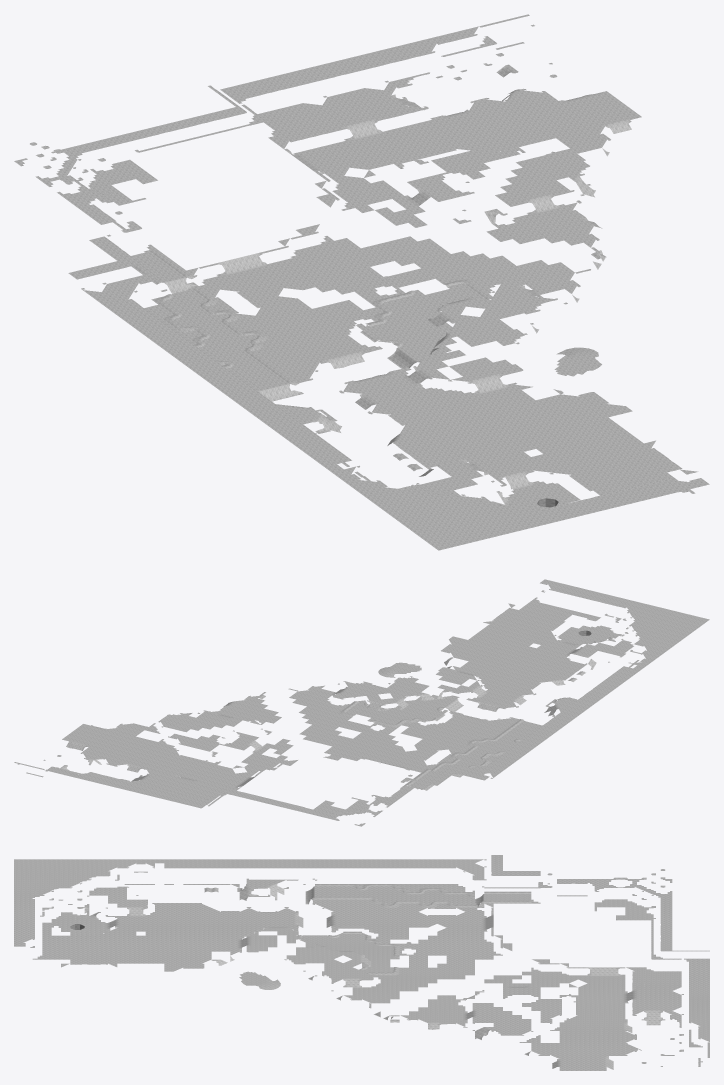
3 renders of one model, top to bottom at view 1: azimuth 30°, elevation 25°; view 2: azimuth 150°, elevation 25°; view 3: azimuth 270°, elevation 25°, orthographic. The views are drawn at different scales.
Visible parts, largest first — view 1: n0_lr0_agg_merge_mod_radiant_path_000_0.meshset_0; view 2: n0_lr0_agg_merge_mod_radiant_path_000_0.meshset_0; view 3: n0_lr0_agg_merge_mod_radiant_path_000_0.meshset_0.
Part boxes in pixels (left/top/right/bottom): n0_lr0_agg_merge_mod_radiant_path_000_0.meshset_0: left=14, top=14, right=709, bottom=550; n0_lr0_agg_merge_mod_radiant_path_000_0.meshset_0: left=14, top=579, right=709, bottom=826; n0_lr0_agg_merge_mod_radiant_path_000_0.meshset_0: left=14, top=855, right=709, bottom=1070.
Bounding box in the file's own units: 325 × 32.51 × 481.
1 material, 1 textured.
